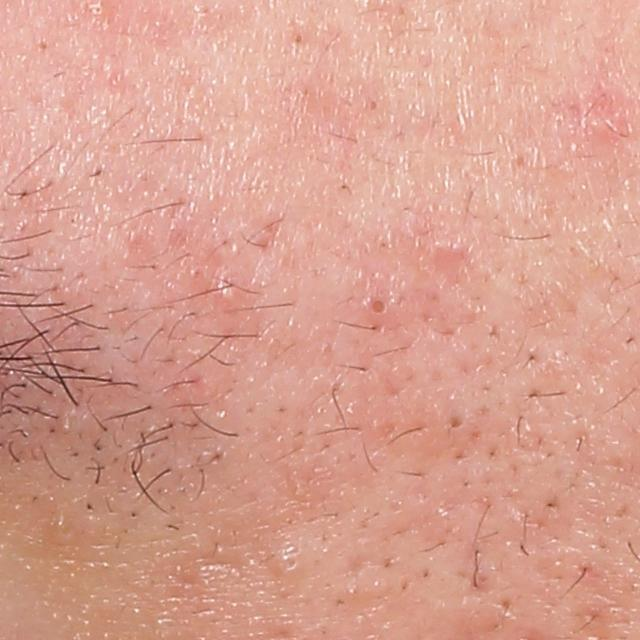comedo: (280, 547, 303, 576), (446, 416, 464, 433), (294, 32, 306, 46), (368, 99, 380, 113)
